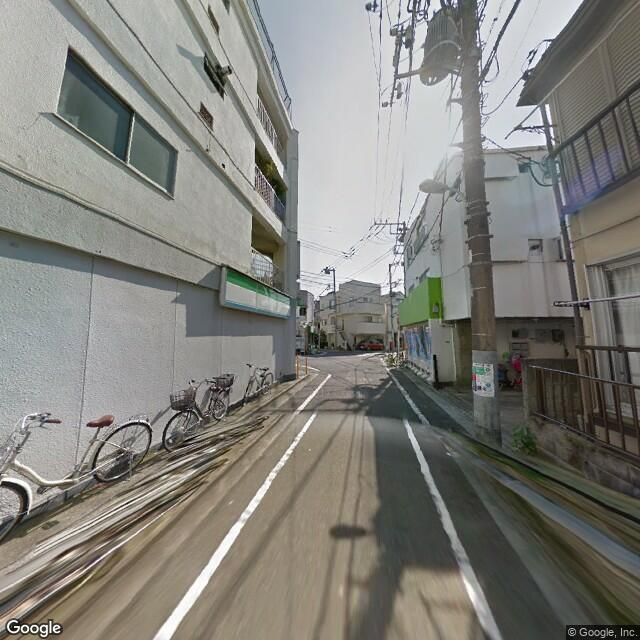family_mart: (222, 266, 293, 317)
